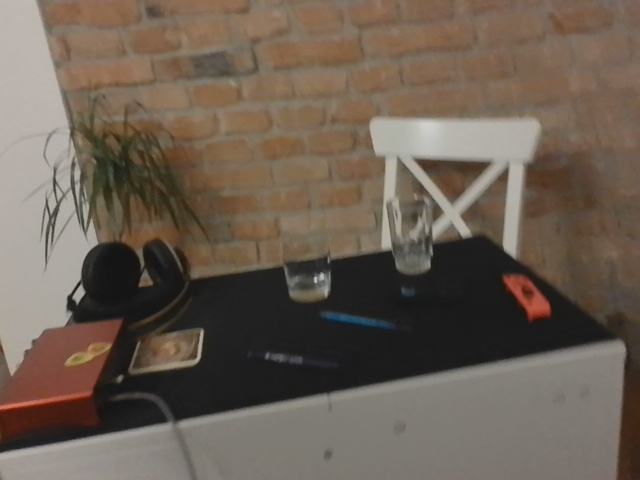glass: (273, 225, 339, 302), (381, 194, 437, 276)
joycon: (503, 273, 556, 323), (391, 279, 471, 304)
pen: (241, 342, 349, 371), (317, 307, 411, 335)
